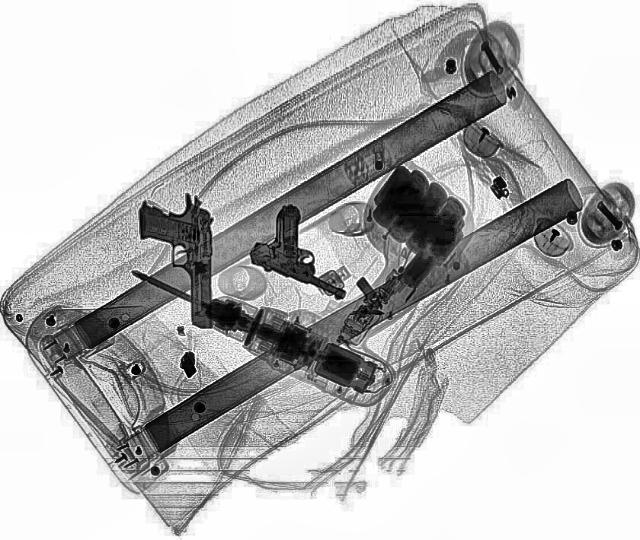Gun: (242, 200, 382, 302), (138, 193, 216, 331)
